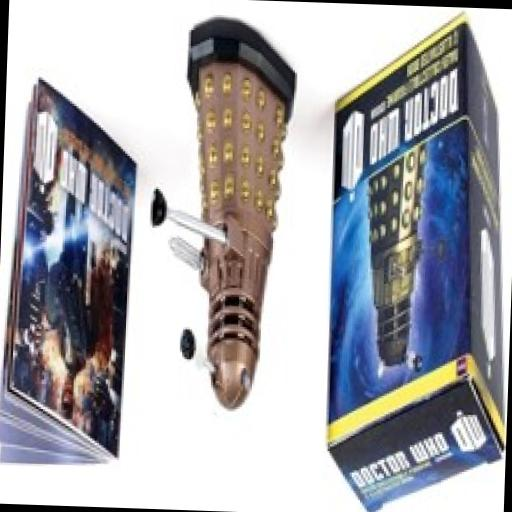dalek: (144, 15, 306, 415), (355, 147, 450, 378)
